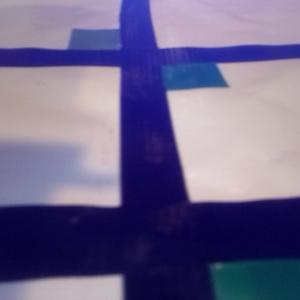bottom_left: (68, 29, 155, 66)
bottom_right: (125, 204, 300, 300), (122, 49, 228, 88)
